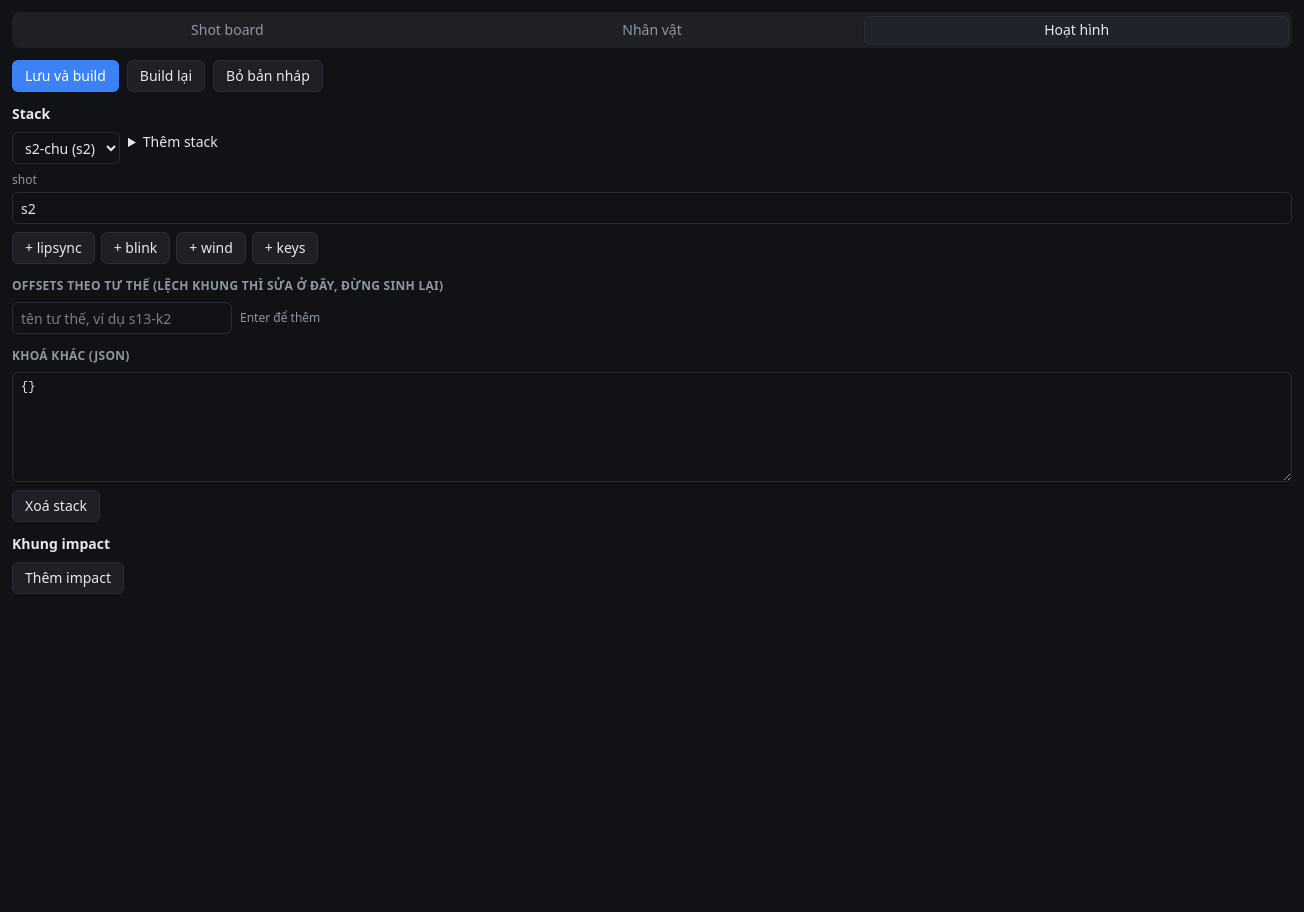
Test: Hoạt hình (manifest editor) › switching sub-tabs keeps the draft
Click the button "+ blink" at point(136, 248), box [101,232,170,264]
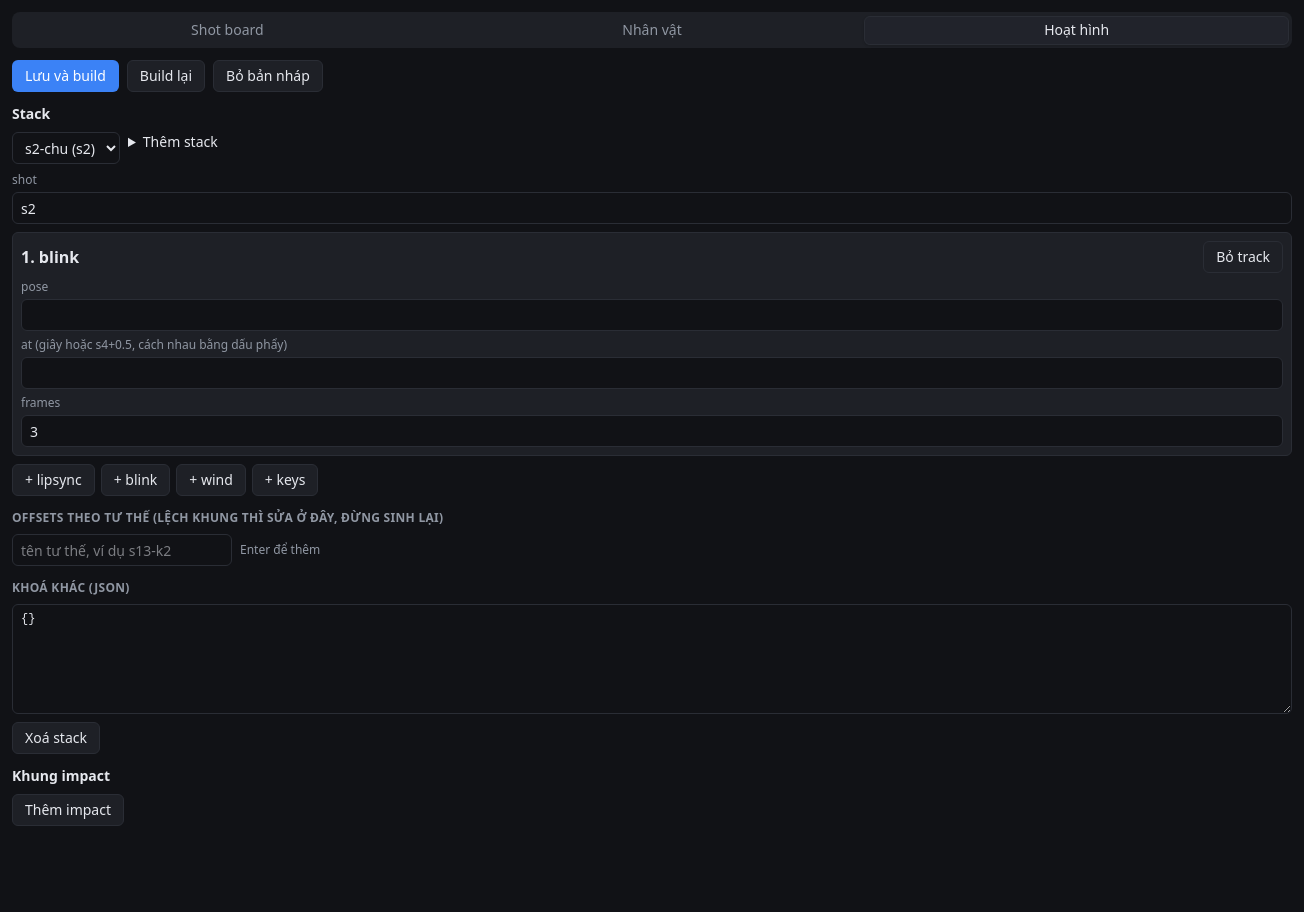
Click the tab "Shot board" at point(227, 30), box [15,16,440,44]
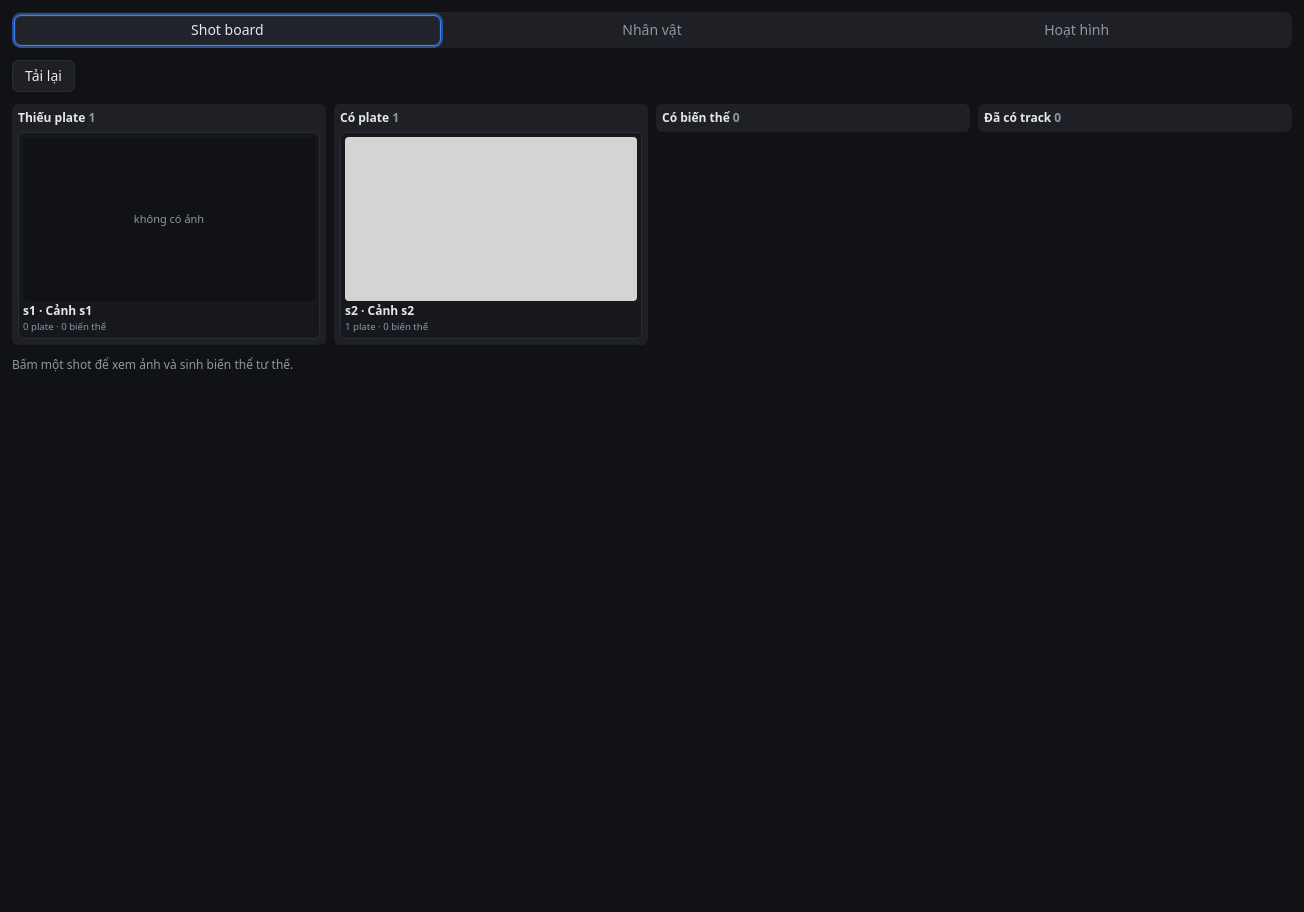
Click the tab "Hoạt hình" at point(1077, 30), box [864,16,1289,44]
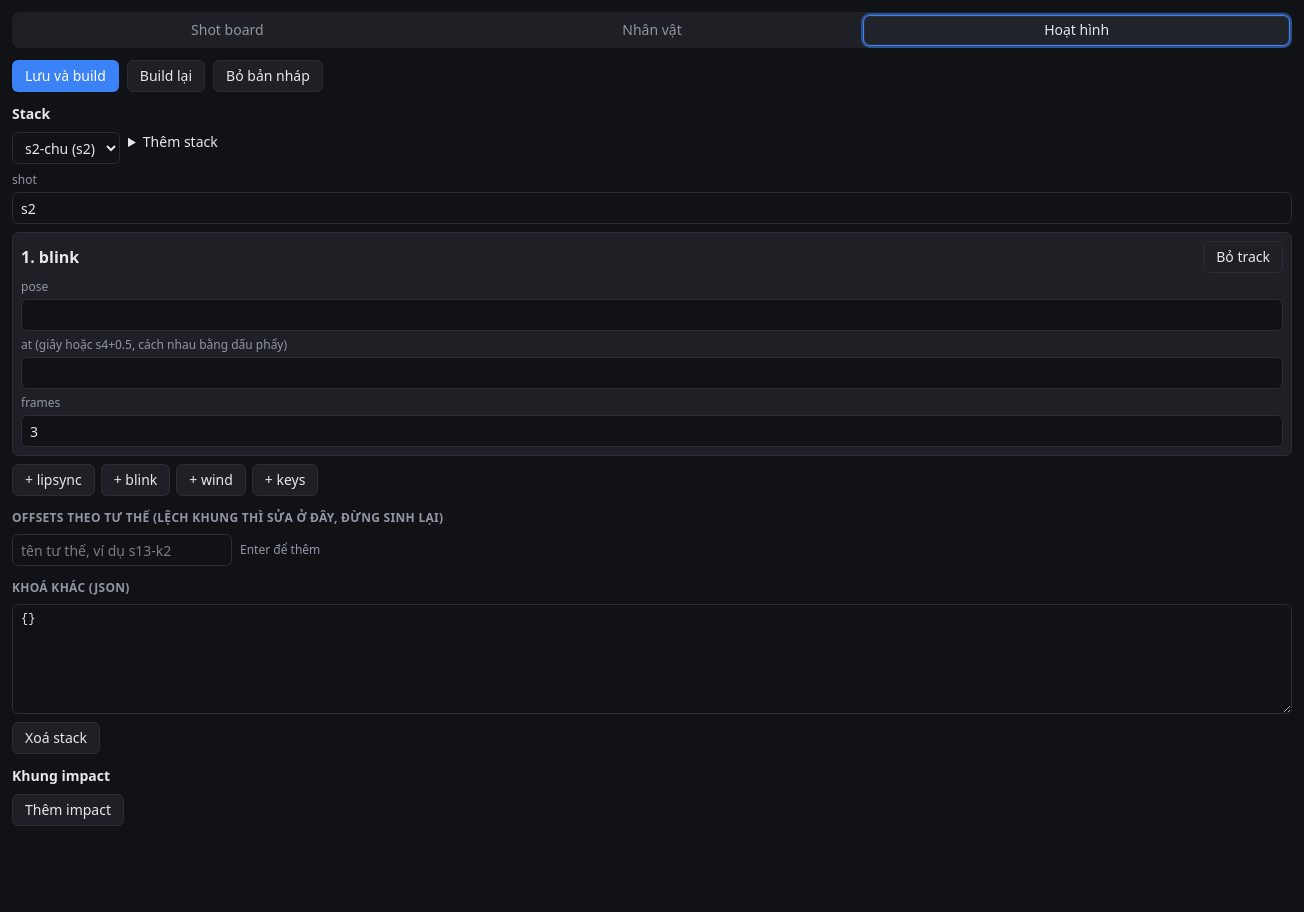
Now the text "1. blink" is shown, box [21,245,79,269]
